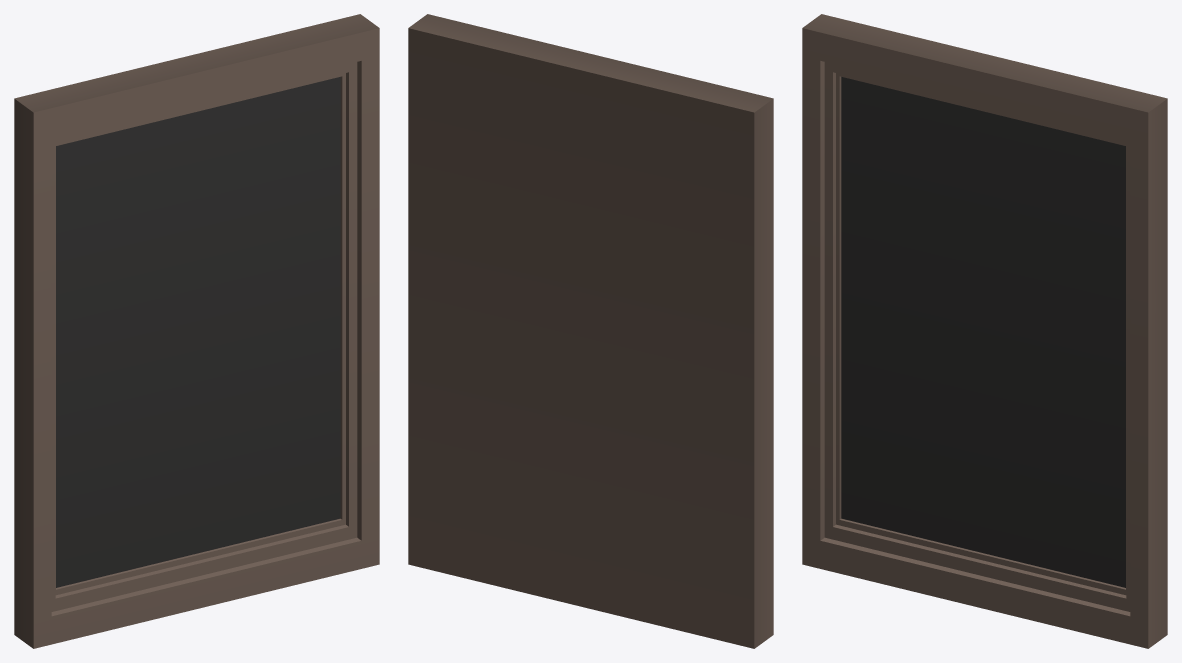
The model's file is Picture_Frame.fbx.
The picture shows the model from 3 angles, left to right: view 1: azimuth 30°, elevation 25°; view 2: azimuth 150°, elevation 25°; view 3: azimuth 330°, elevation 25°; orthographic projection.
Visible parts, largest first — view 1: Picture Frame; view 2: Picture Frame; view 3: Picture Frame.
Part boxes in pixels (<box>): Picture Frame: <box>14,14,379,648</box>; Picture Frame: <box>408,14,773,648</box>; Picture Frame: <box>802,14,1167,648</box>.
Bounding box in the file's own units: 135 × 200 × 13.04.
